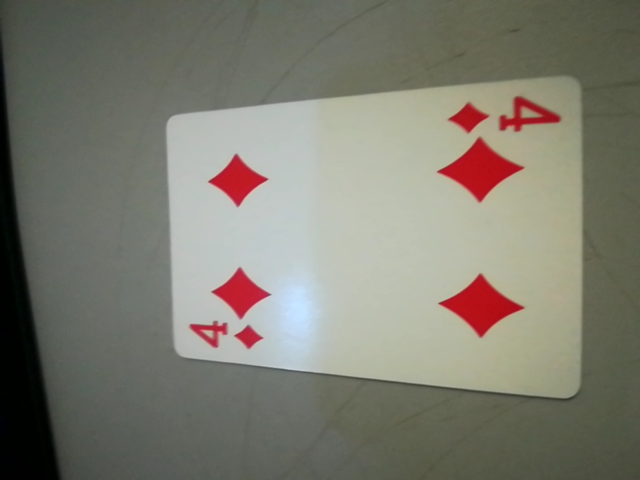fk 4: (439, 92, 567, 148)
